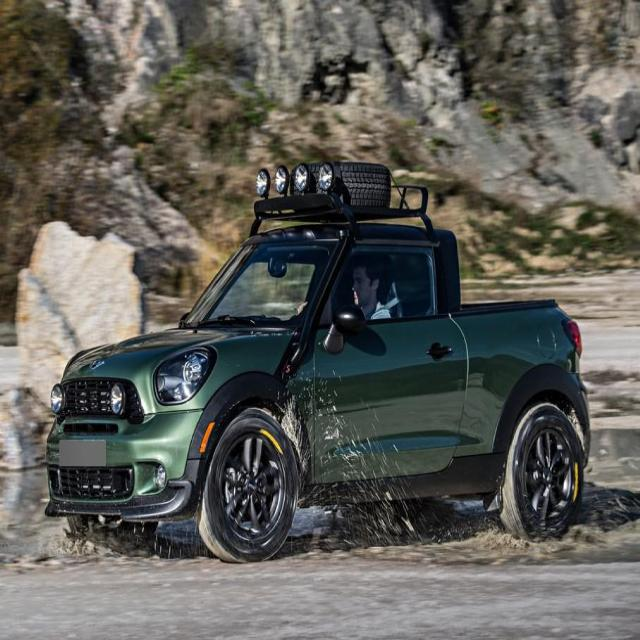back_left_side_light: (557, 312, 585, 362)
front_bumper: (45, 406, 206, 525)
front_glass: (182, 234, 342, 332)
front_left_side_door: (310, 234, 470, 489)
front_left_side_light: (153, 343, 218, 408)
front_left_side_mirror: (322, 302, 366, 352)
wheel: (194, 409, 298, 561), (490, 405, 582, 542), (68, 518, 157, 551)
